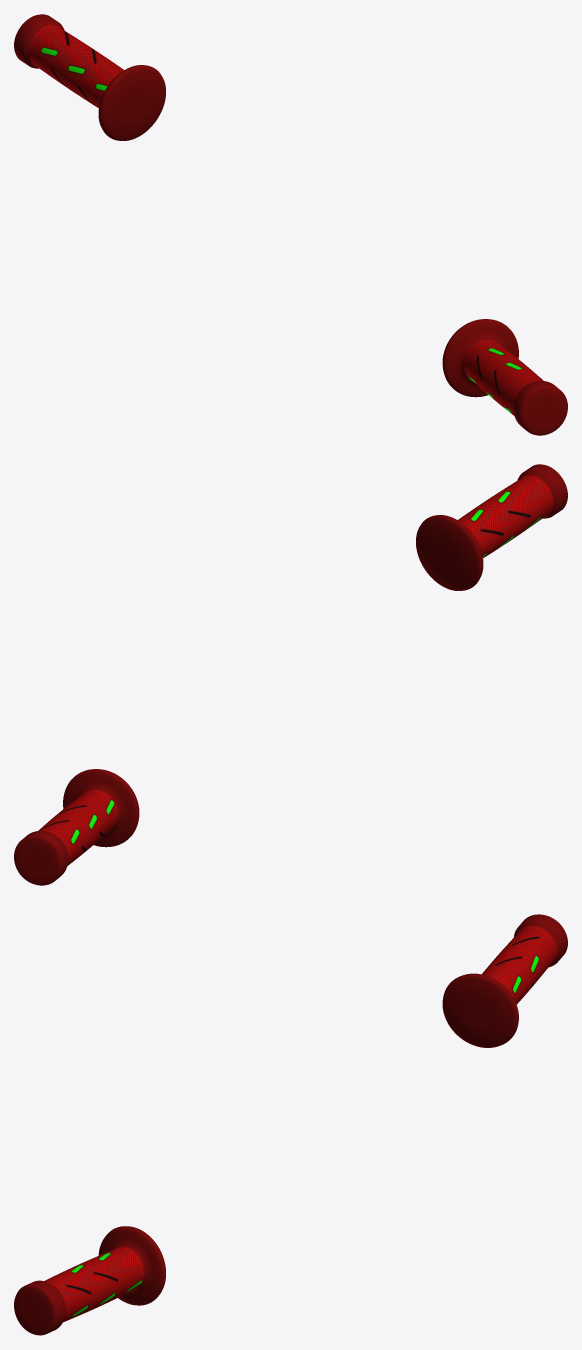
The model's file is knurl.glb.
The picture shows the model from 3 angles, top to bottom: view 1: azimuth 30°, elevation 25°; view 2: azimuth 150°, elevation 25°; view 3: azimuth 330°, elevation 25°; orthographic projection.
Visible parts, largest first — view 1: grip_knurl; view 2: grip_knurl; view 3: grip_knurl.
Part boxes in pixels (x1=…): grip_knurl: x1=14, y1=14, x2=567, y2=435; grip_knurl: x1=14, y1=464, x2=567, y2=885; grip_knurl: x1=14, y1=914, x2=567, y2=1335.
Bounding box in the file's own units: 0.0652 × 0.0618 × 0.7717.
1 material, 1 textured.
